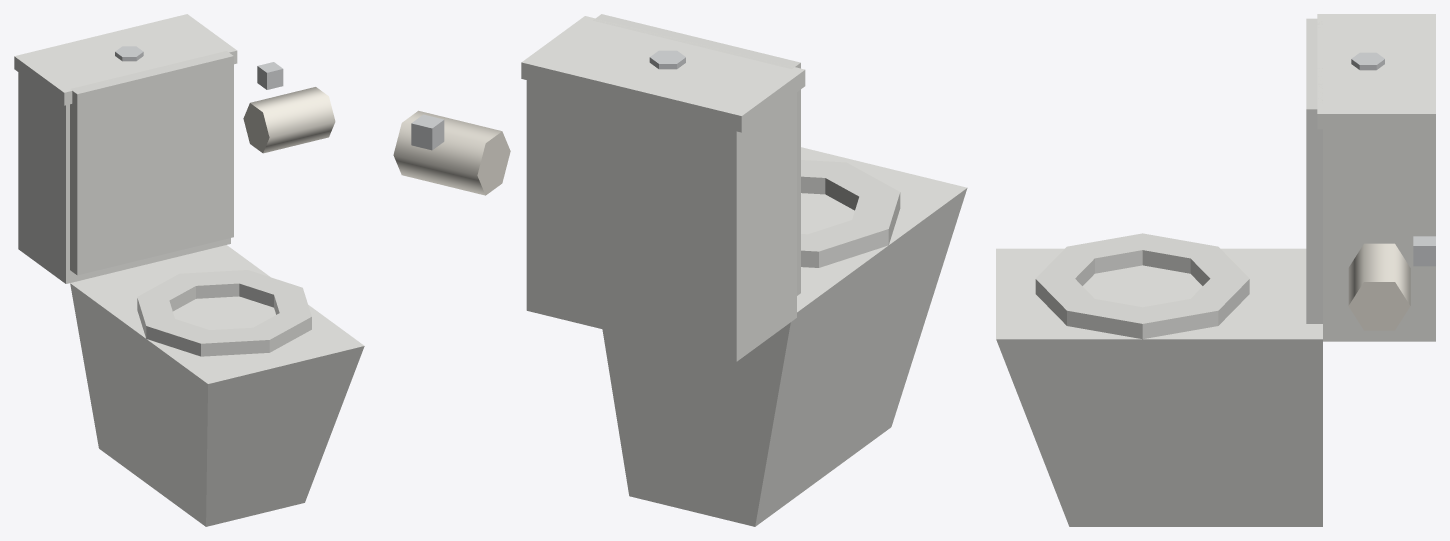
The model's file is toilet_clean.glb.
3 renders of one model, left to right at view 1: azimuth 30°, elevation 25°; view 2: azimuth 150°, elevation 25°; view 3: azimuth 270°, elevation 25°, orthographic. The views are drawn at different scales.
Visible parts, largest first — view 1: toilet_clean; view 2: toilet_clean; view 3: toilet_clean.
Boxes of the visible parts, <box> form: toilet_clean: <box>14,14,364,526</box>; toilet_clean: <box>393,14,967,526</box>; toilet_clean: <box>996,14,1435,526</box>.
Bounding box in the file's own units: 0.69 × 0.86 × 0.78.
Materials: 1 (1 with a texture image).
